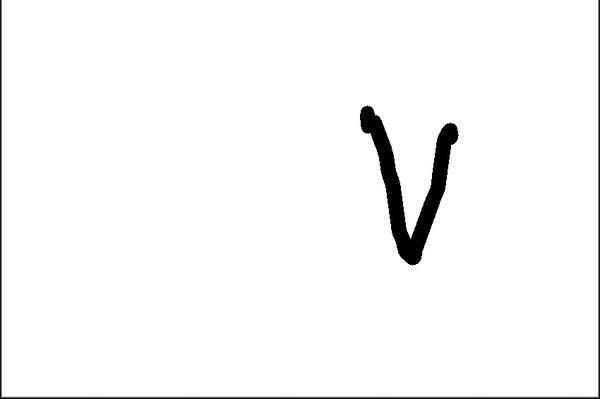V: (356, 89, 459, 281)
